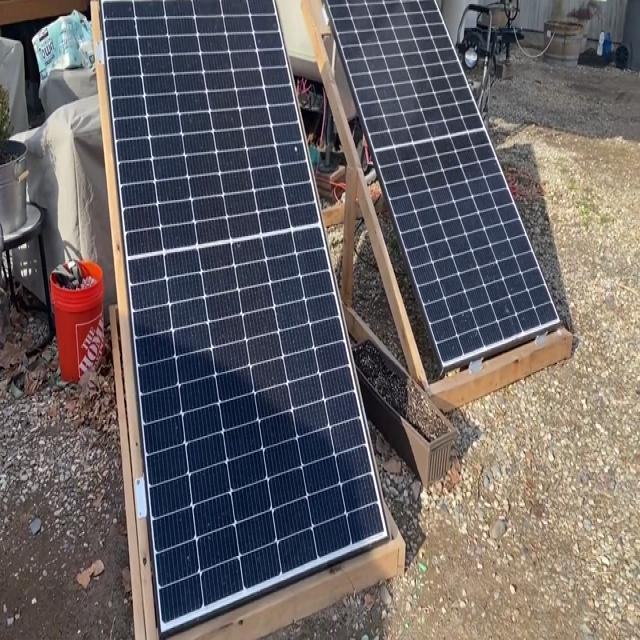Normal Solar Panel: (104, 3, 387, 635), (329, 0, 560, 367)
